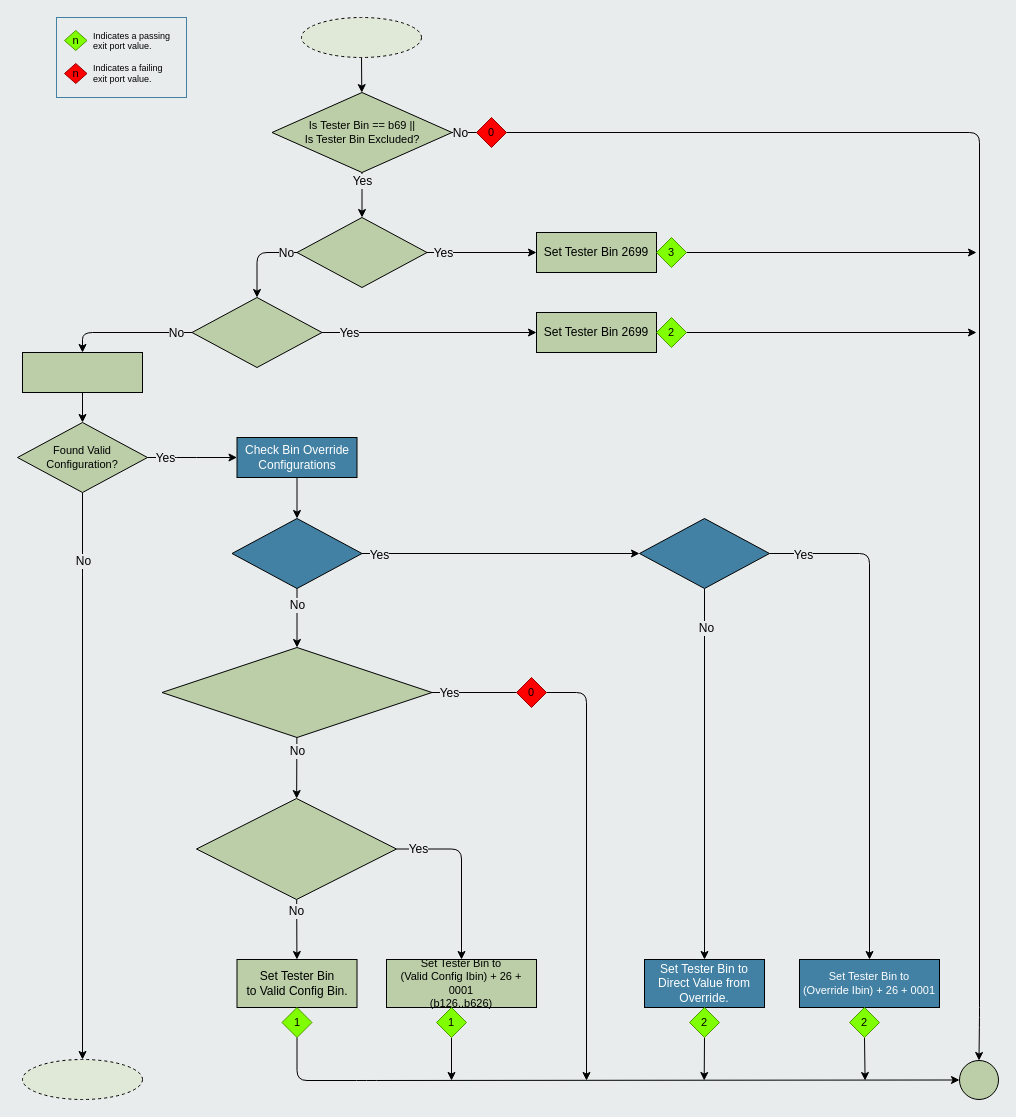
Some shapes in this 1016 by 1117 pixel diagram are drawn without their labels. Here are the shapes that lost their labels. From the top down, the box of each, then its label:
(300, 16, 422, 58): From Bad Die Binning
(296, 216, 427, 288): IsVADTL?
(191, 296, 322, 368): WasVADTL?
(22, 352, 142, 392): Check Good Die Configurations
(231, 518, 362, 588): Was Bin Override Found?
(638, 518, 770, 588): WasBin26?
(161, 646, 432, 738): Is/Was VADTLRecovery ==1 && Valid Config IB == 1 || 2
(196, 798, 396, 900): WasBin26? OR IsVadtlRecovery? OR WasVadtlRecovery?
(22, 1058, 142, 1100): To Invalid Configurations
(958, 1060, 998, 1100): End
